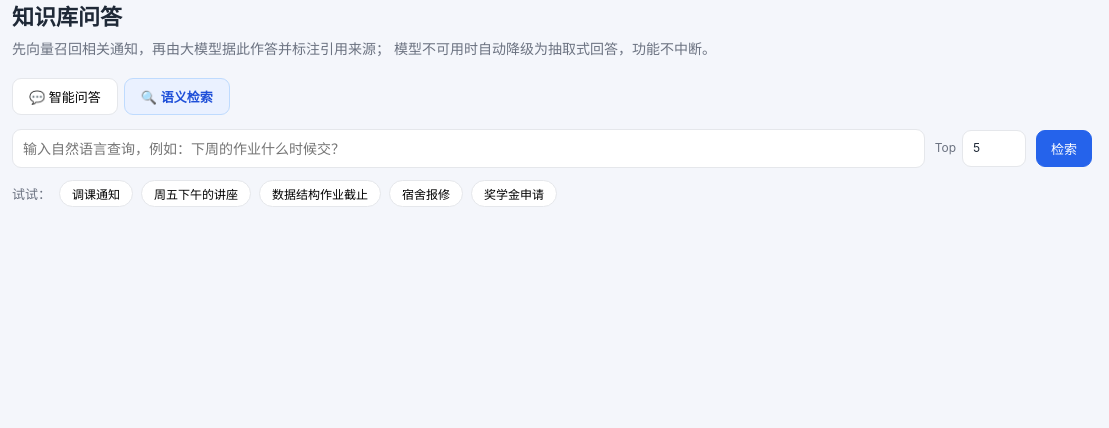
Test case: Search 组件 › snippet 优先展示在独立区块，summary 降级为带「摘要」标签的次要行
The width and height of the screenshot is (1109, 428).
Type "工作坊报名什么时候截止" into the field at (468, 149), box 12,129 -> 925,168
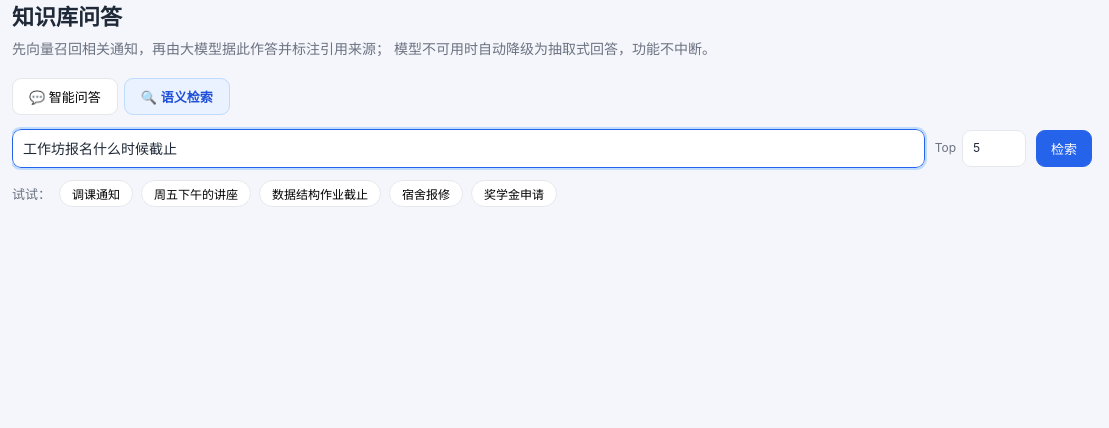
Click the button "检索" at (1064, 149), box 1036,130 -> 1092,167
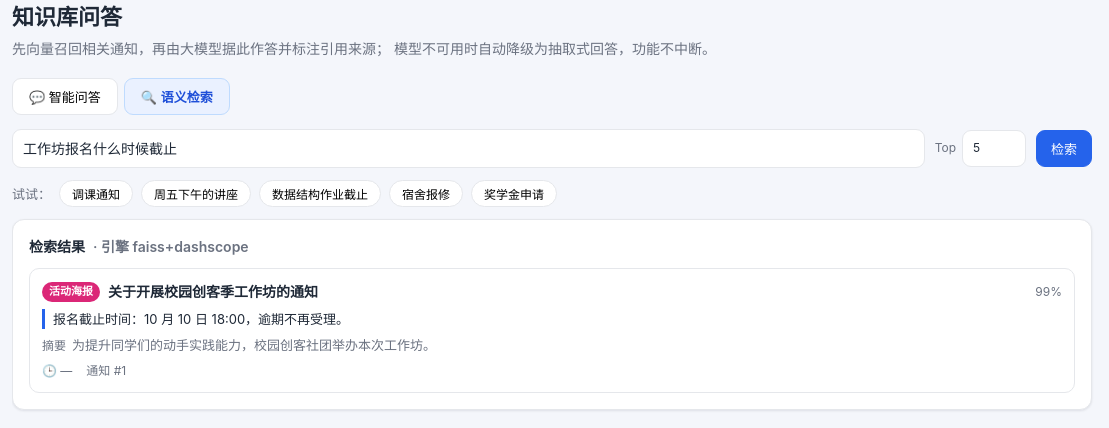
Expected: the text "摘要" is shown, 42,338 -> 66,353
Expected: the element with class "hit-summary" is shown, 42,337 -> 436,353
